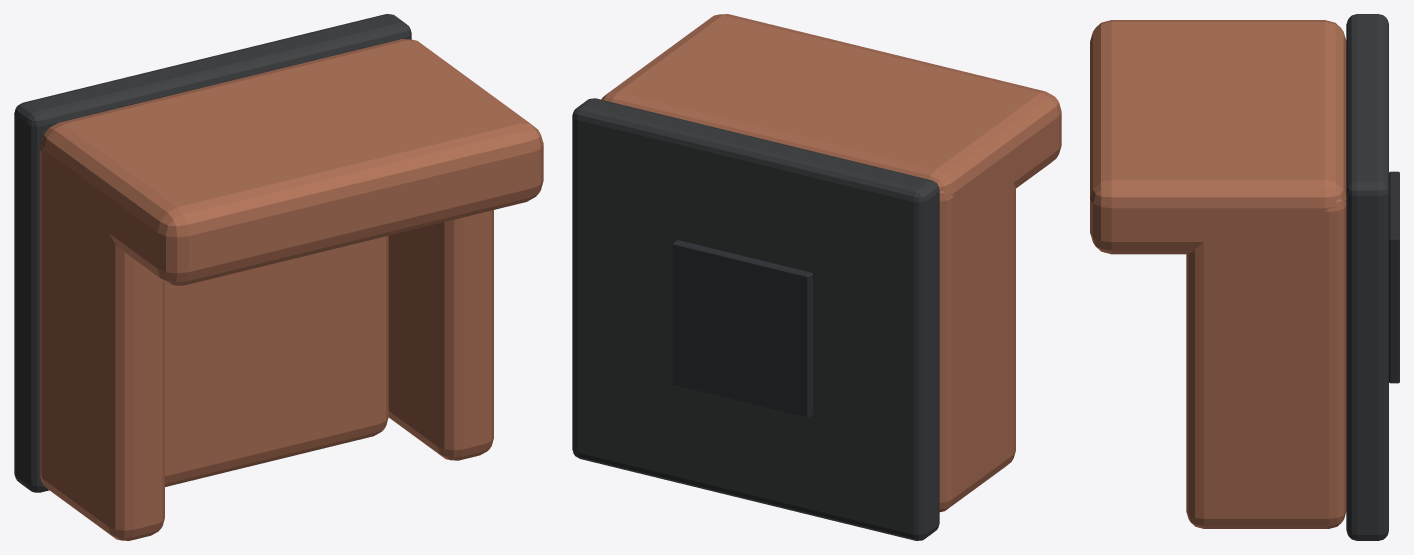
Rendered from lounge_swivel_armchair_seat_shell.glb.
3 views of the same model, side by side, from view 1: azimuth 30°, elevation 25°; view 2: azimuth 150°, elevation 25°; view 3: azimuth 270°, elevation 25° (orthographic). The views are drawn at different scales.
Parts seen in each view (by area): view 1: export_tmp; view 2: export_tmp; view 3: export_tmp.
Part boxes in pixels (x1,y1,x2,y2): export_tmp: (14, 14, 543, 540); export_tmp: (572, 14, 1061, 540); export_tmp: (1090, 14, 1399, 540).
Size of the model in its own units: 0.78 by 0.74 by 0.58.
